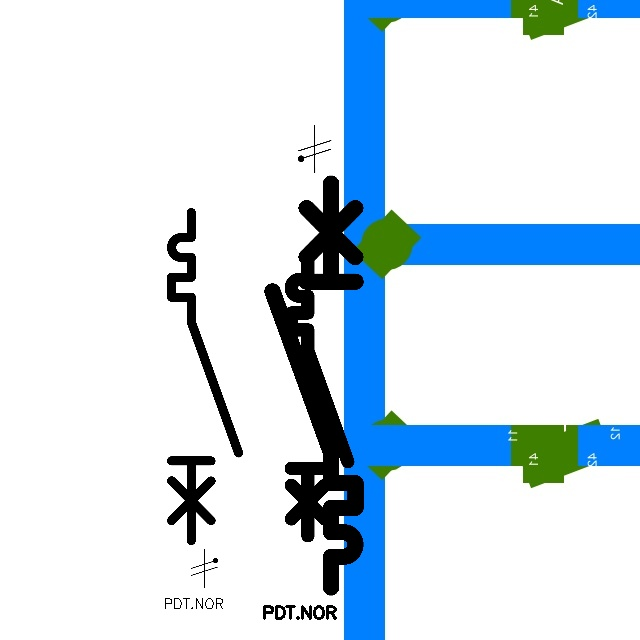interruptor_termomagnetico: (262, 173, 366, 598), (163, 204, 247, 549), (284, 251, 355, 543)
